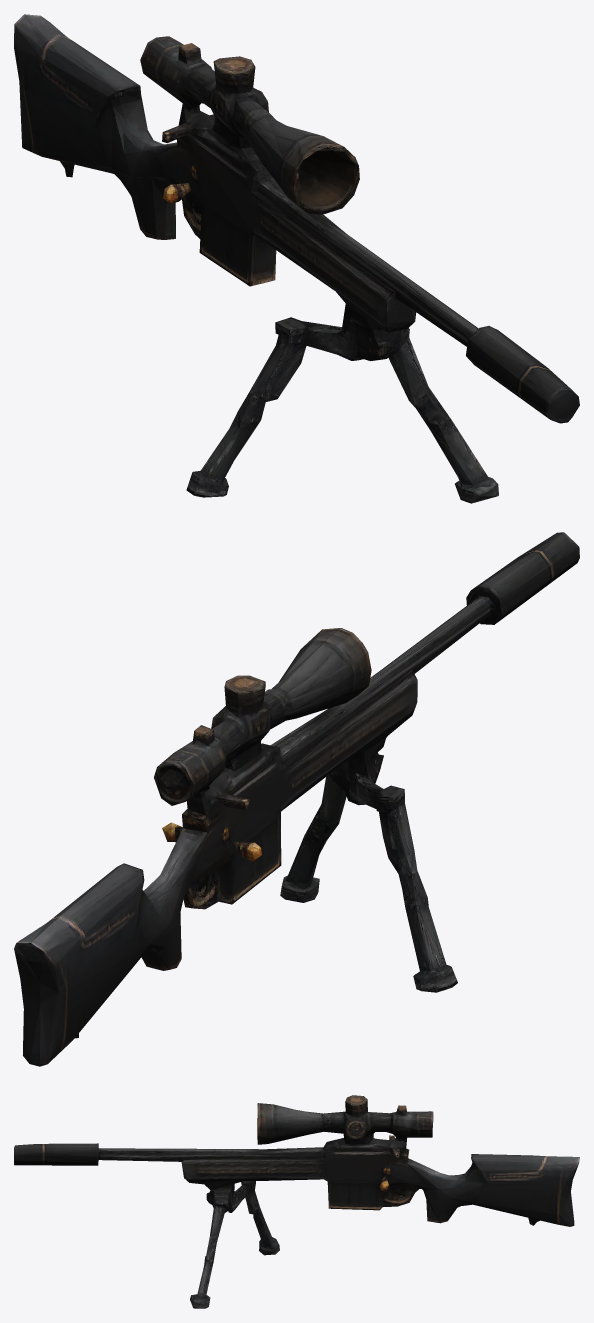
Rendered from sniper_rifle.glb.
3 views of the same model, one above another, from view 1: azimuth 30°, elevation 25°; view 2: azimuth 150°, elevation 25°; view 3: azimuth 270°, elevation 25° (orthographic). The views are drawn at different scales.
Parts seen in each view (by area): view 1: geometry_0; view 2: geometry_0; view 3: geometry_0.
Part boxes in pixels (x1=…): geometry_0: x1=14, y1=14, x2=579, y2=503; geometry_0: x1=14, y1=532, x2=579, y2=1066; geometry_0: x1=14, y1=1095, x2=579, y2=1308.
Bounding box in the file's own units: 0.2559 × 0.3543 × 0.9995.
Materials: 1 (1 with a texture image).
